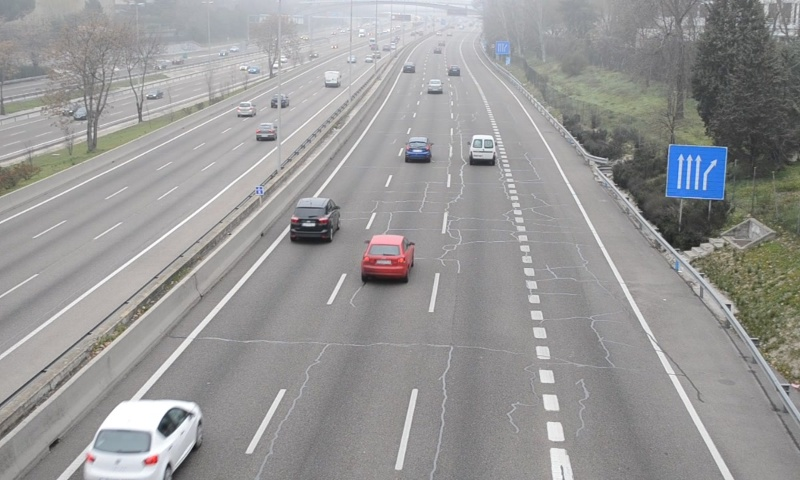car: (85, 400, 204, 480), (362, 233, 412, 278), (290, 198, 338, 241), (404, 138, 432, 163), (426, 78, 444, 95)
van: (468, 135, 498, 165)
